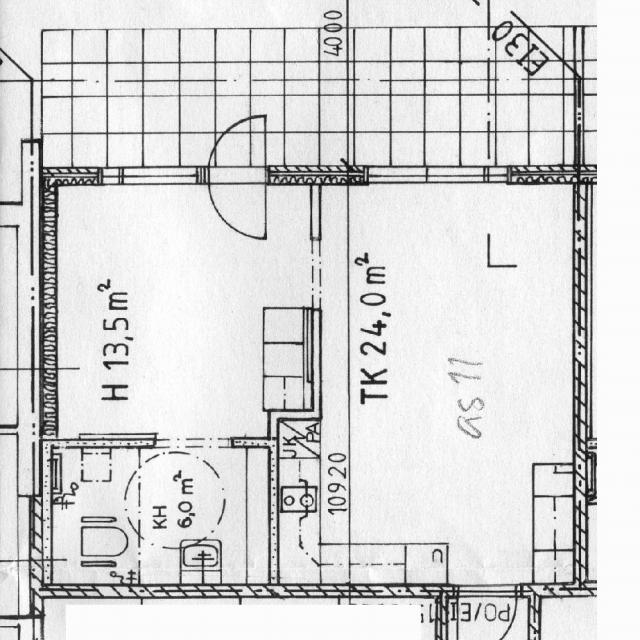door: (209, 165, 265, 237), (209, 112, 265, 184)
